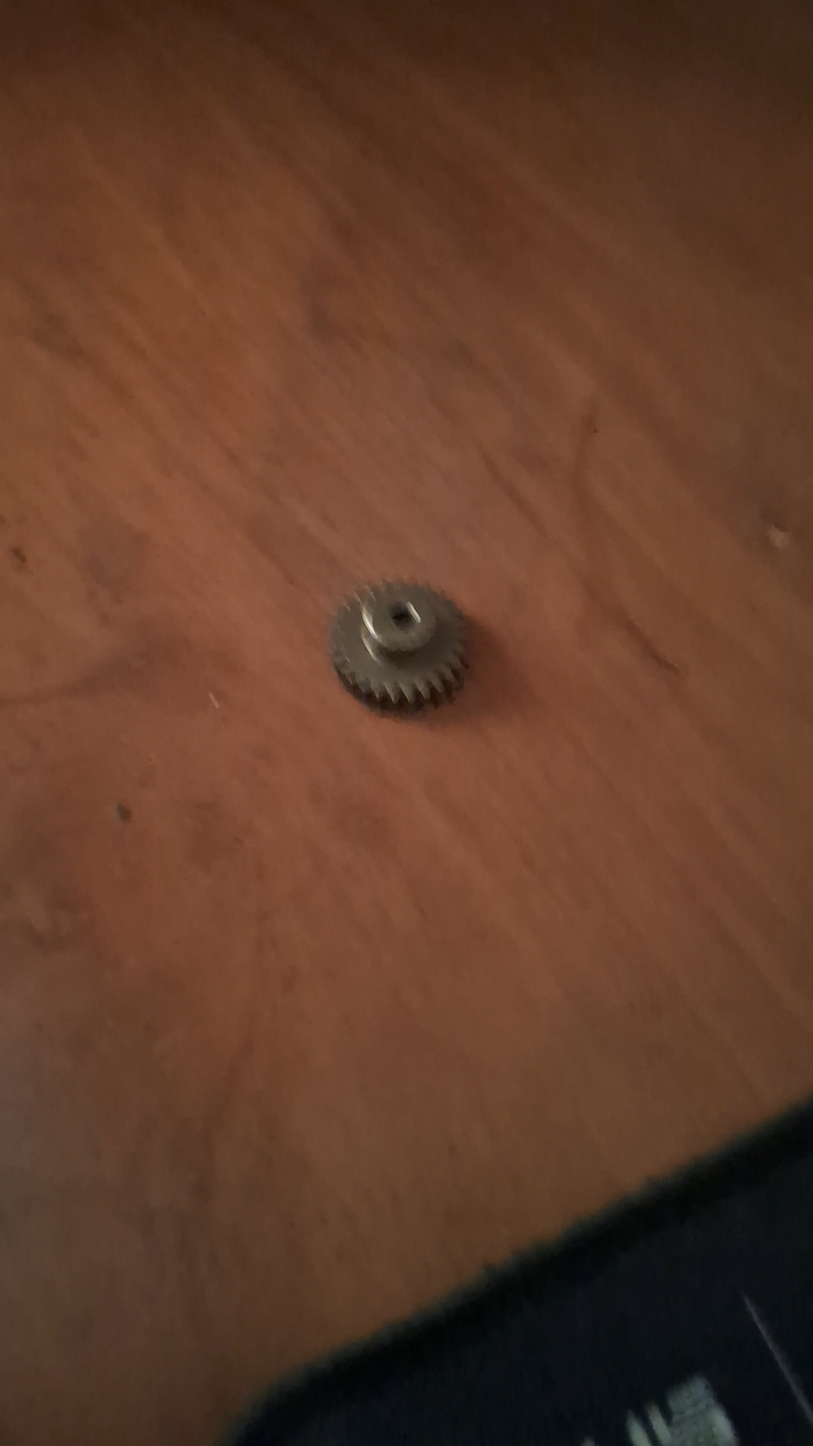spur gear: (331, 582, 466, 711)
